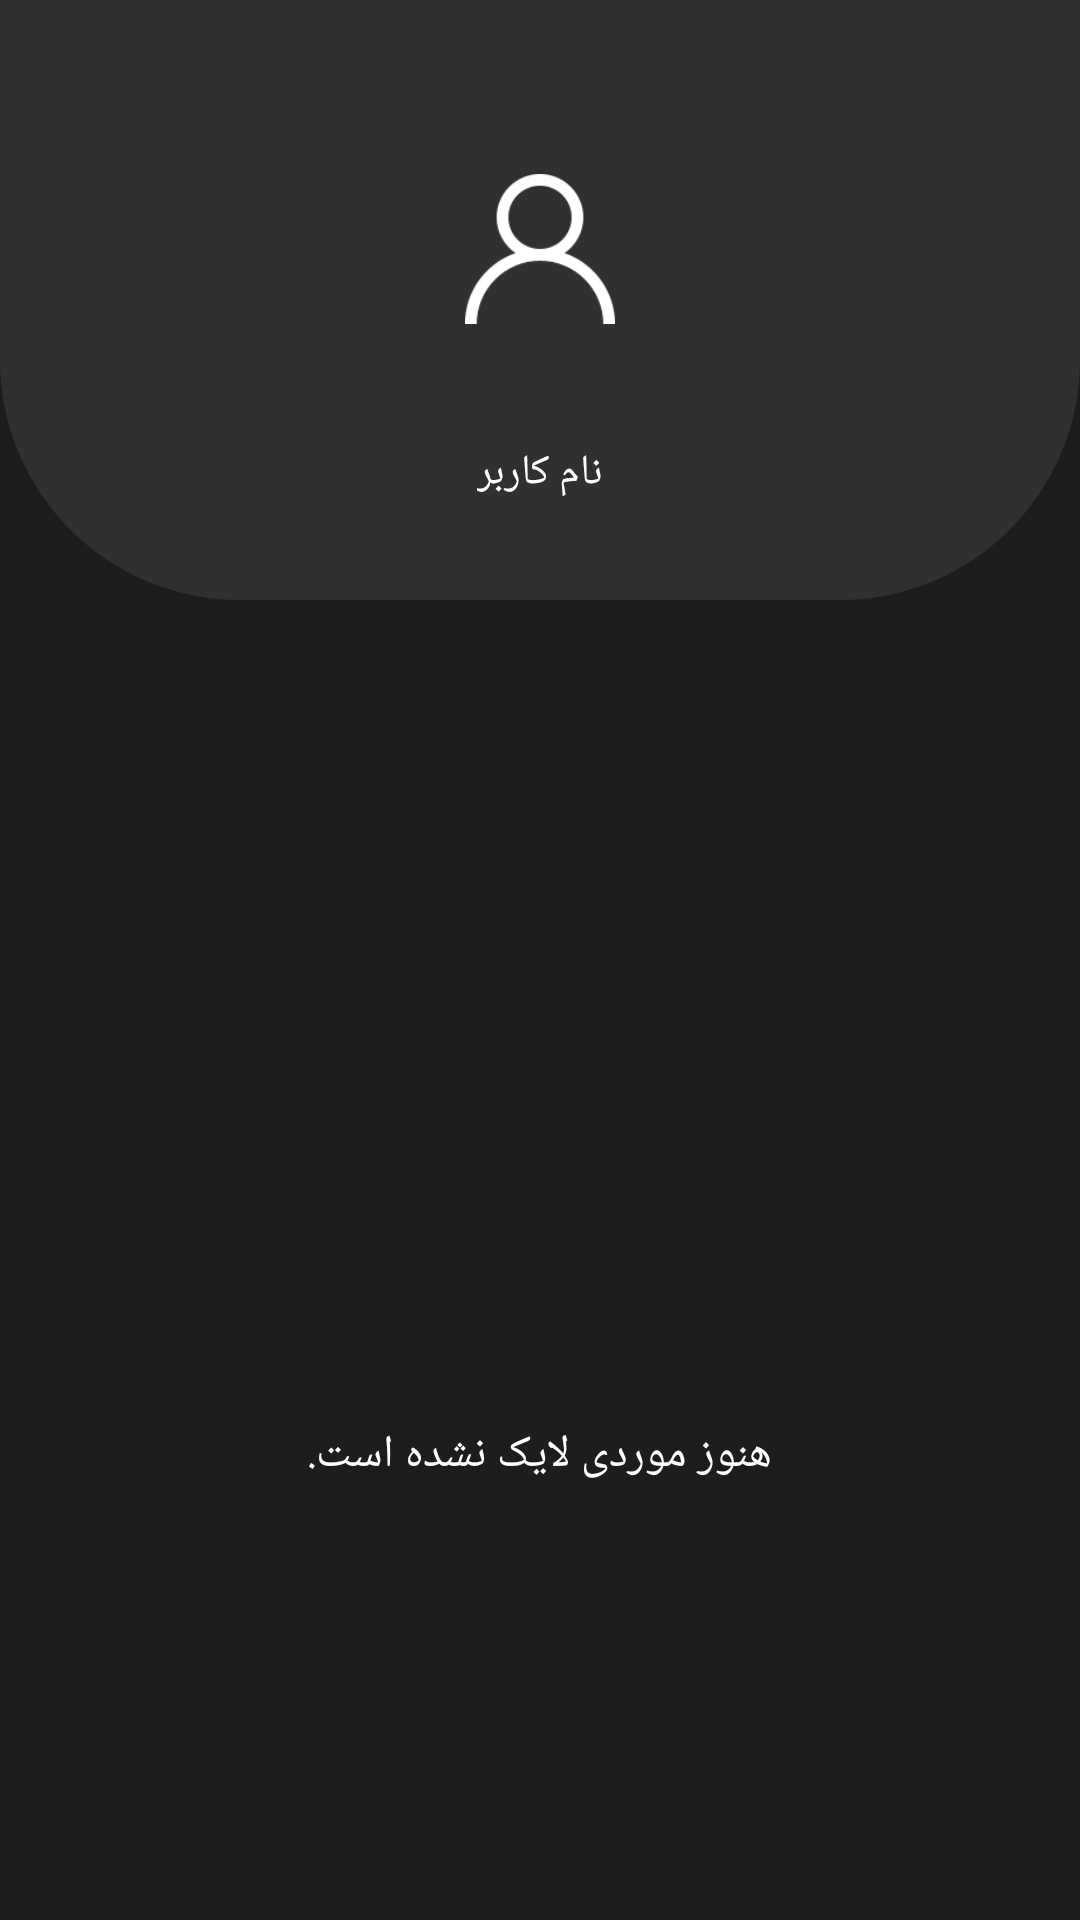

Point at icon controls on the screen. Image size 1080px×1920px, points as (x=x, y=y).
user: (x=540, y=249)
